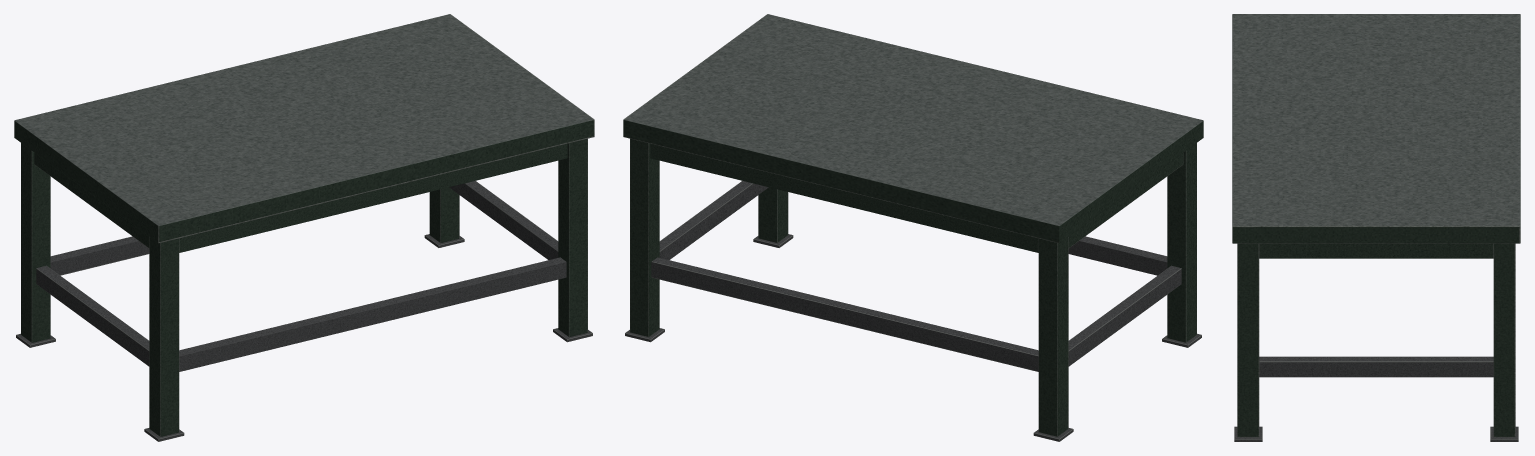
File: shakedown_table.glb
3 renders of one model, left to right at view 1: azimuth 30°, elevation 25°; view 2: azimuth 150°, elevation 25°; view 3: azimuth 270°, elevation 25°, orthographic.
Visible parts, largest first — view 1: TableTop, LowerBraceFrame, UpperApronFrame, LegFrontLeft, LegFrontRight, LegRearLeft, LegRearRight; view 2: TableTop, LowerBraceFrame, UpperApronFrame, LegRearLeft, LegRearRight, LegFrontLeft, LegFrontRight; view 3: TableTop, LowerBraceFrame, LegFrontRight, LegRearRight, UpperApronFrame.
Part boxes in pixels (x1,y1,x2,y2): TableTop: (14, 14, 594, 243); LowerBraceFrame: (36, 181, 566, 371); UpperApronFrame: (34, 143, 567, 252); LegFrontLeft: (149, 237, 179, 436); LegFrontRight: (558, 138, 587, 337); LegRearLeft: (21, 143, 50, 342); LegRearRight: (429, 187, 459, 243); TableTop: (623, 14, 1203, 243); LowerBraceFrame: (651, 181, 1181, 371); UpperApronFrame: (650, 143, 1183, 252); LegRearLeft: (1038, 237, 1068, 436); LegRearRight: (630, 138, 659, 337); LegFrontLeft: (1167, 143, 1196, 342); LegFrontRight: (758, 187, 788, 243); TableTop: (1232, 14, 1520, 243); LowerBraceFrame: (1259, 356, 1493, 377); LegFrontRight: (1237, 243, 1259, 437); LegRearRight: (1493, 243, 1515, 437); UpperApronFrame: (1259, 243, 1493, 258).
Bounding box in the file's own units: 2.2 × 1.05 × 1.26.
24 materials, 24 textured.
